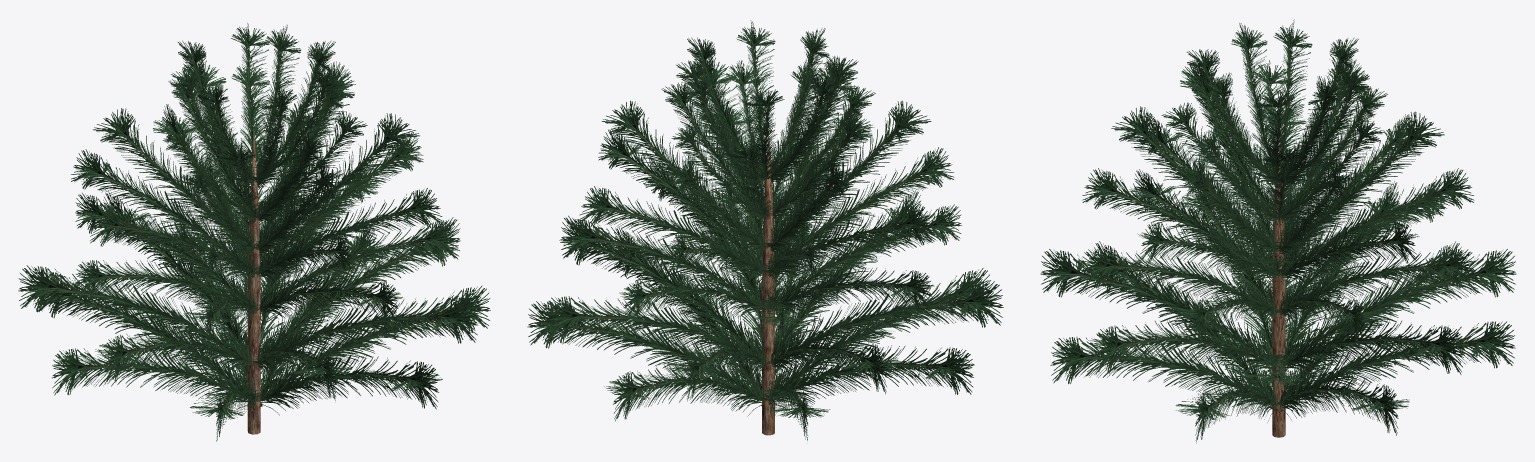
File: Sharp_WhitePine01.gltf
3 views of the same model, side by side, from view 1: azimuth 30°, elevation 25°; view 2: azimuth 150°, elevation 25°; view 3: azimuth 270°, elevation 25° (orthographic).
Parts seen in each view (by area): view 1: Bfol, Afol, Dfol, Cfol, Hfol, Efol, Ffol, Trunk; view 2: Bfol, Afol, Dfol, Cfol, Efol, Hfol, Ffol, Trunk; view 3: Bfol, Afol, Dfol, Cfol, Efol, Hfol, Ffol, Trunk.
Part boxes in pixels (x1,y1,x2,y2): Bfol: [18, 191, 478, 400]; Afol: [35, 212, 490, 441]; Dfol: [71, 97, 442, 285]; Cfol: [75, 150, 456, 343]; Hfol: [171, 23, 342, 191]; Efol: [93, 61, 419, 262]; Ffol: [162, 66, 367, 226]; Trunk: [247, 129, 260, 434]; Bfol: [543, 176, 1003, 401]; Afol: [527, 226, 990, 440]; Dfol: [579, 99, 954, 287]; Cfol: [565, 150, 961, 343]; Efol: [602, 56, 931, 258]; Hfol: [676, 20, 858, 188]; Ffol: [661, 60, 875, 224]; Trunk: [762, 129, 774, 435]; Bfol: [1040, 181, 1516, 385]; Afol: [1050, 227, 1515, 443]; Dfol: [1082, 107, 1474, 287]; Cfol: [1081, 146, 1475, 342]; Efol: [1111, 57, 1444, 260]; Hfol: [1187, 19, 1369, 189]; Ffol: [1161, 60, 1387, 226]; Trunk: [1272, 138, 1285, 437].
Size of the model in its own units: 11.48 by 9.97 by 11.35.
Materials: 2 (2 with a texture image).
